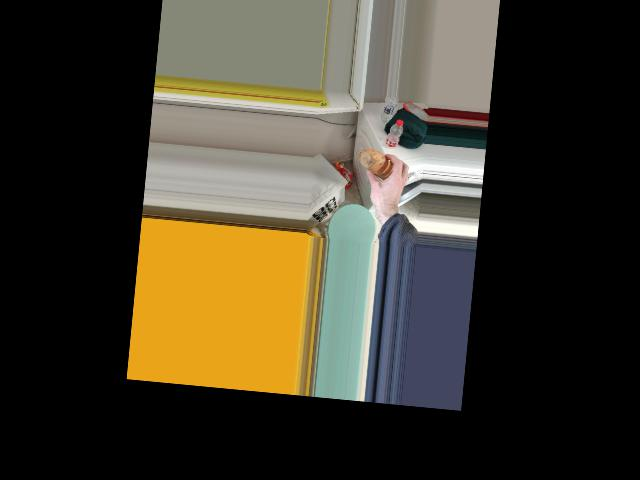sweet_potato: (363, 147, 396, 180)
